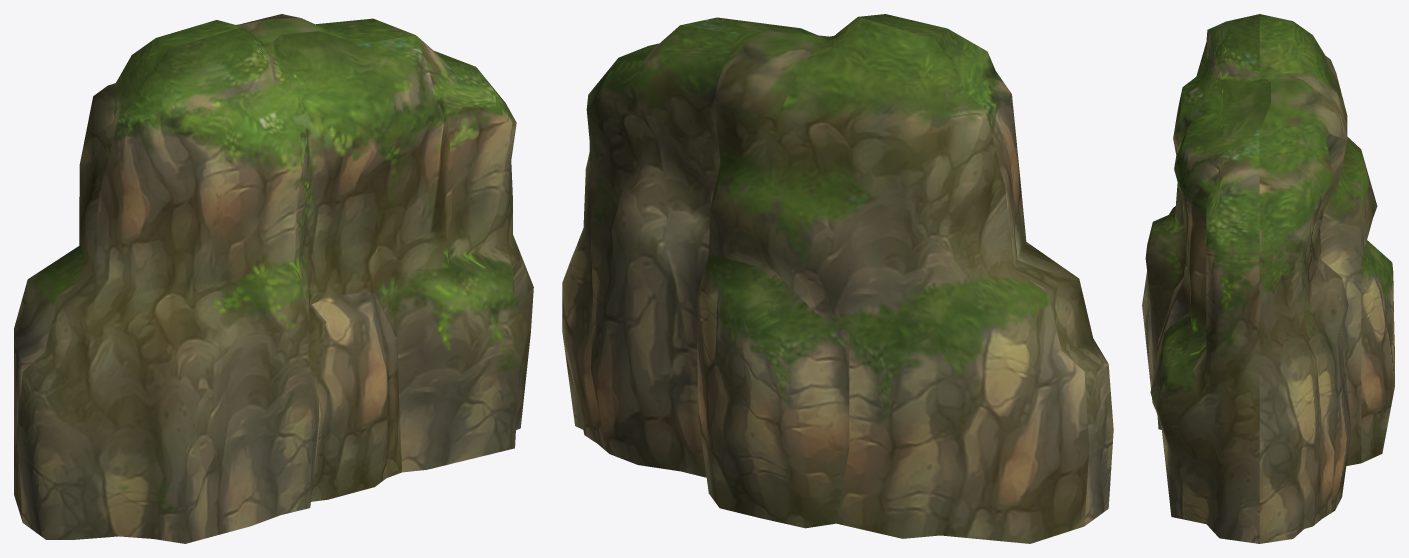
File: daliang_field_d_s01a.fbx
3 renders of one model, left to right at view 1: azimuth 30°, elevation 25°; view 2: azimuth 150°, elevation 25°; view 3: azimuth 270°, elevation 25°, orthographic. The views are drawn at different scales.
Parts seen in each view (by area): view 1: daliang_field_d_s01a; view 2: daliang_field_d_s01a; view 3: daliang_field_d_s01a.
Boxes of the visible parts, x1,y1,x2,y2 form: daliang_field_d_s01a: (14, 14, 533, 543); daliang_field_d_s01a: (562, 14, 1113, 543); daliang_field_d_s01a: (1142, 14, 1394, 543).
Bounding box in the file's own units: 1368 × 1156 × 683.
